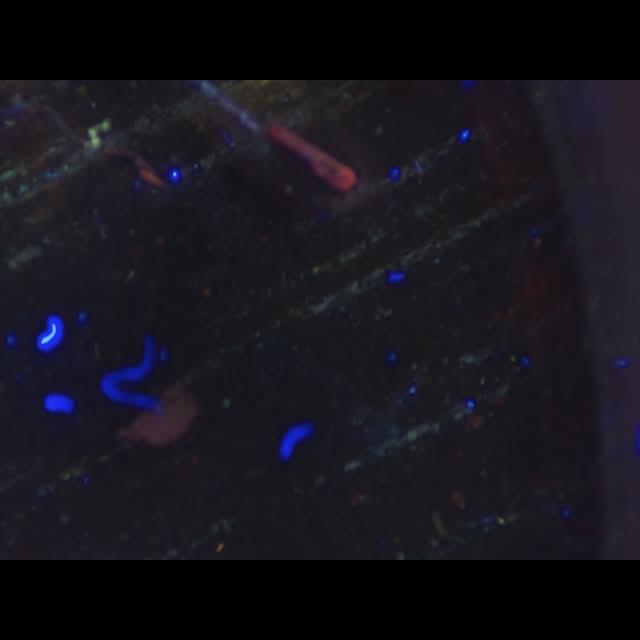Fibre: (86, 118, 112, 150)
